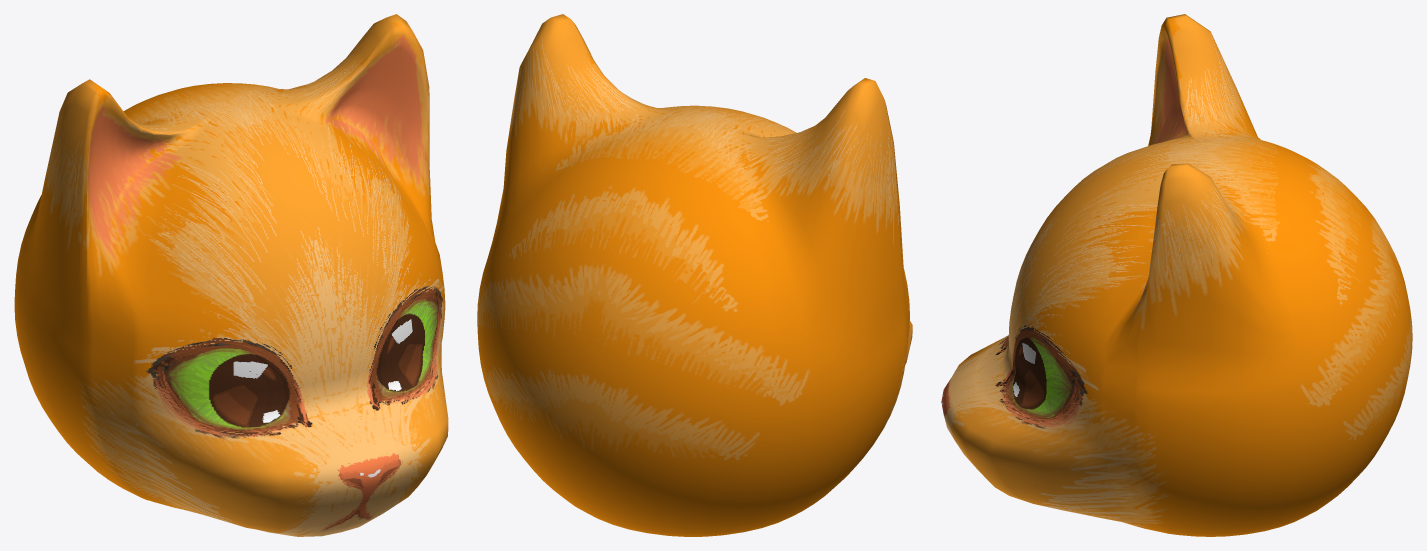
File: cat_head.fbx
3 views of the same model, side by side, from view 1: azimuth 30°, elevation 25°; view 2: azimuth 150°, elevation 25°; view 3: azimuth 270°, elevation 25° (orthographic). The views are drawn at different scales.
Visible parts, largest first — view 1: pSphere1; view 2: pSphere1; view 3: pSphere1.
Boxes of the visible parts, x1=… form: pSphere1: x1=14, y1=14, x2=448, y2=536; pSphere1: x1=477, y1=14, x2=912, y2=536; pSphere1: x1=941, y1=14, x2=1412, y2=536.
Bounding box in the file's own units: 8.91 × 10.5 × 10.4.
1 material, 1 textured.
